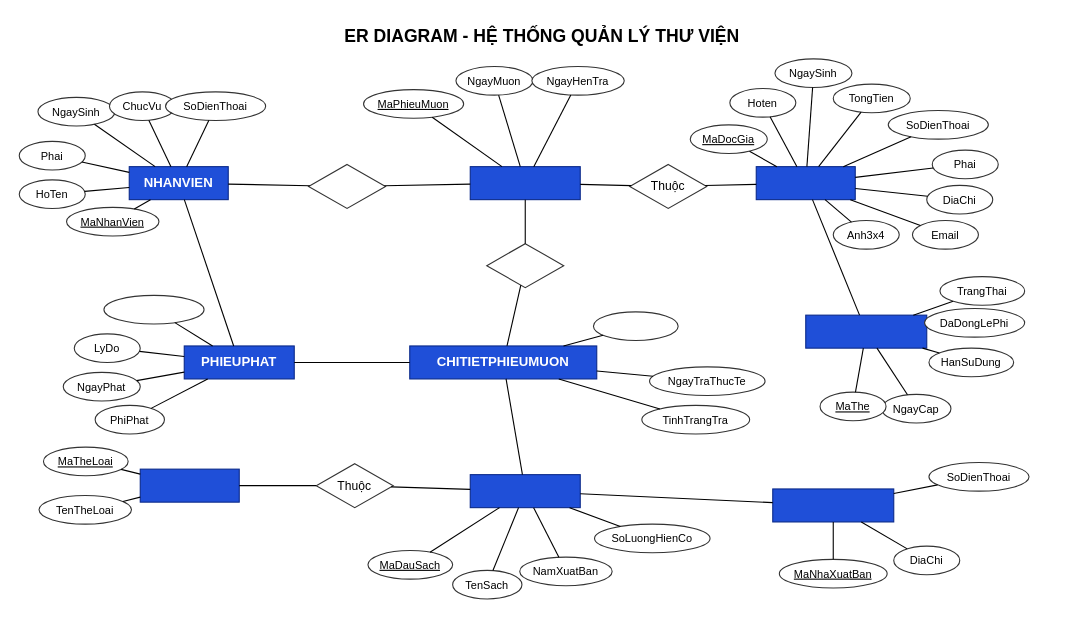
Some shapes in this 1084 by 618 pixel diagram are drawn without their labels. The centre of each missing label's shape, as x and y in pixels:
"DAUSACH" belongs at [524,491].
"DOCGIA" belongs at [805,183].
"Gồm" belongs at [525,265].
"Lập" belongs at [346,185].
"MaChiTiet" belongs at [635,325].
"MaPhieuPhat" belongs at [153,309].
"NHAXUATBAN" belongs at [833,505].
"PHIEUMUON" belongs at [524,183].
"THEDOCGIA" belongs at [866,331].
"THELOAI" belongs at [189,485].
